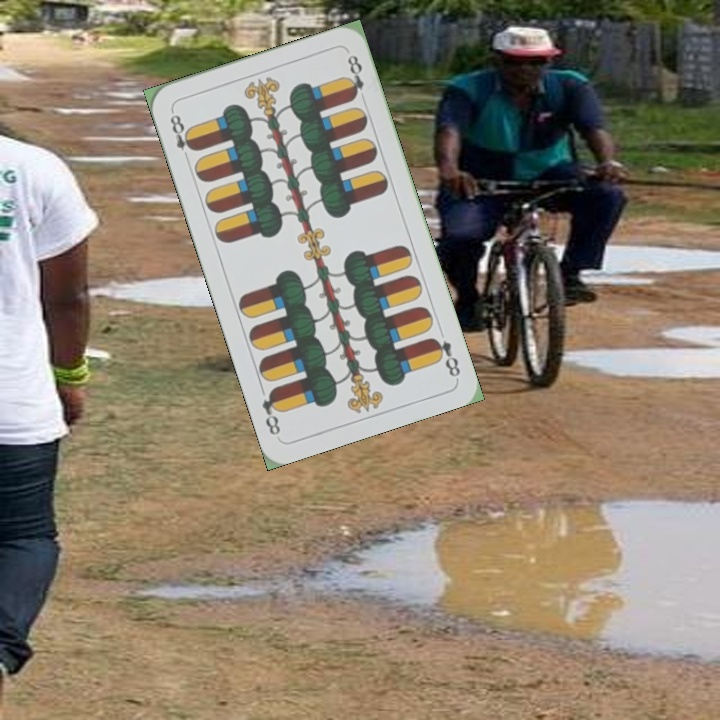E8: (166, 106, 199, 164), (427, 333, 463, 380)
